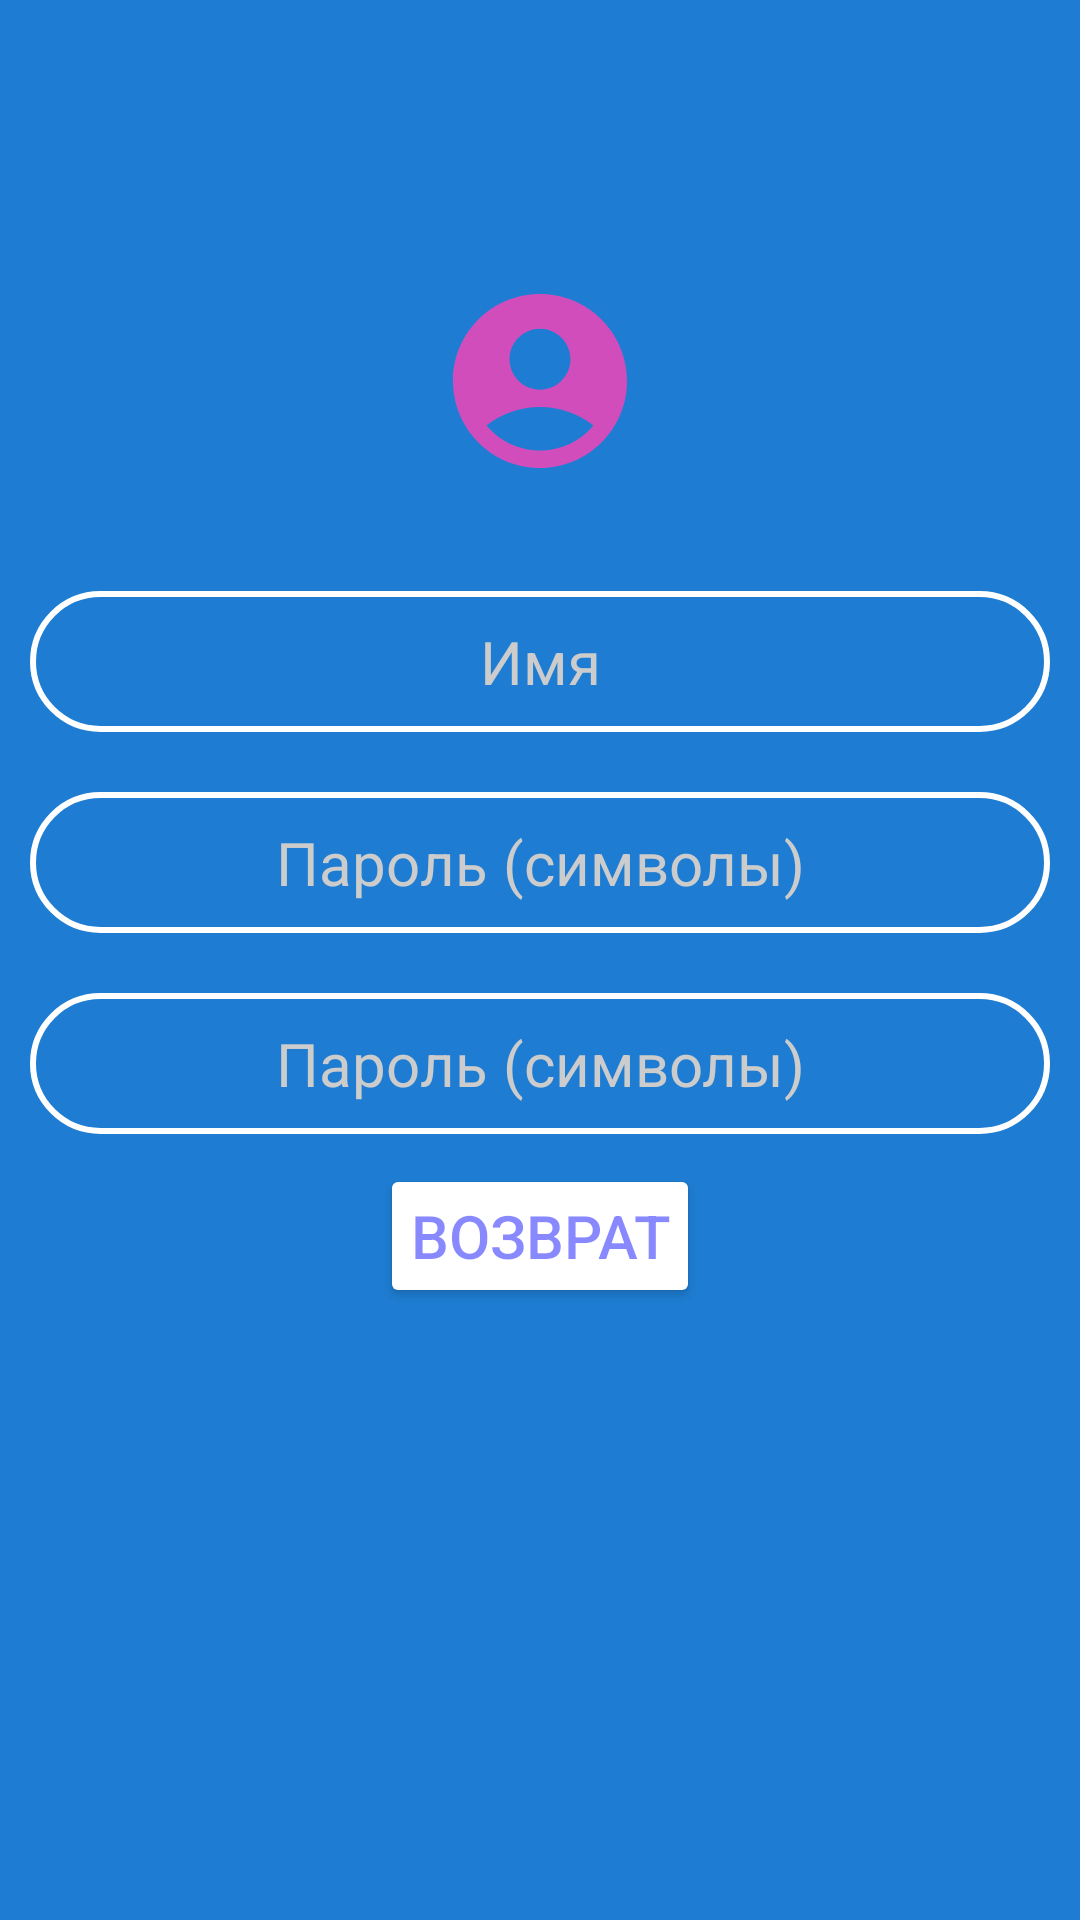

Named icons in this screenshot (1080px x 1920px) and their centers, point (x, y):
account: point (540, 381)
